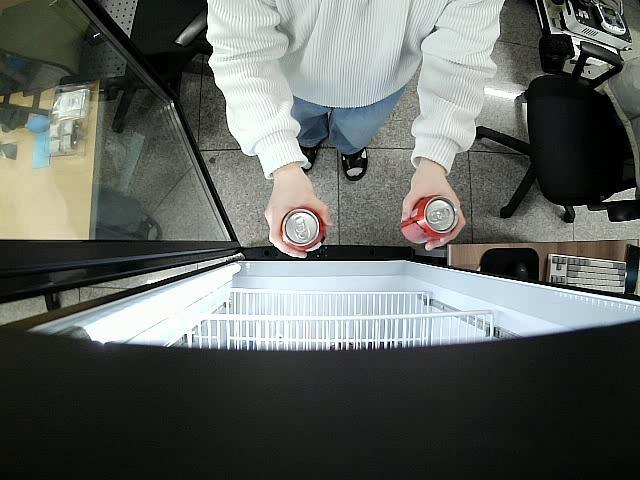11_cocaColaZero: (400, 196, 458, 244), (280, 206, 326, 254)
